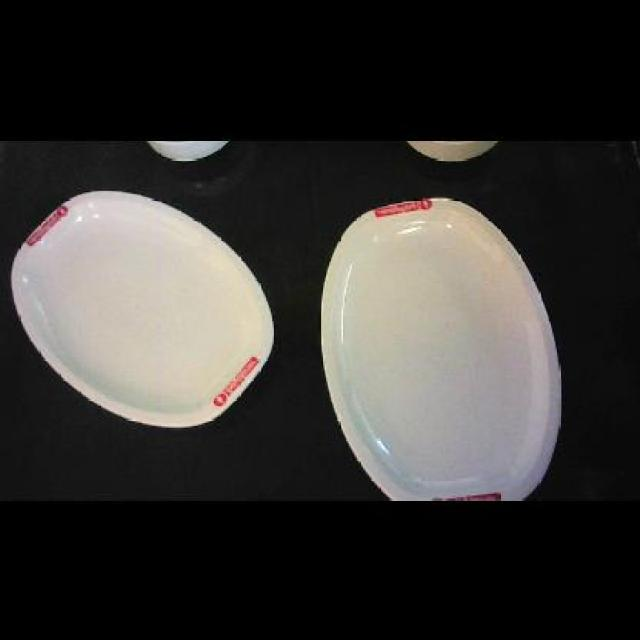plate: (320, 195, 563, 497), (12, 189, 274, 426)
